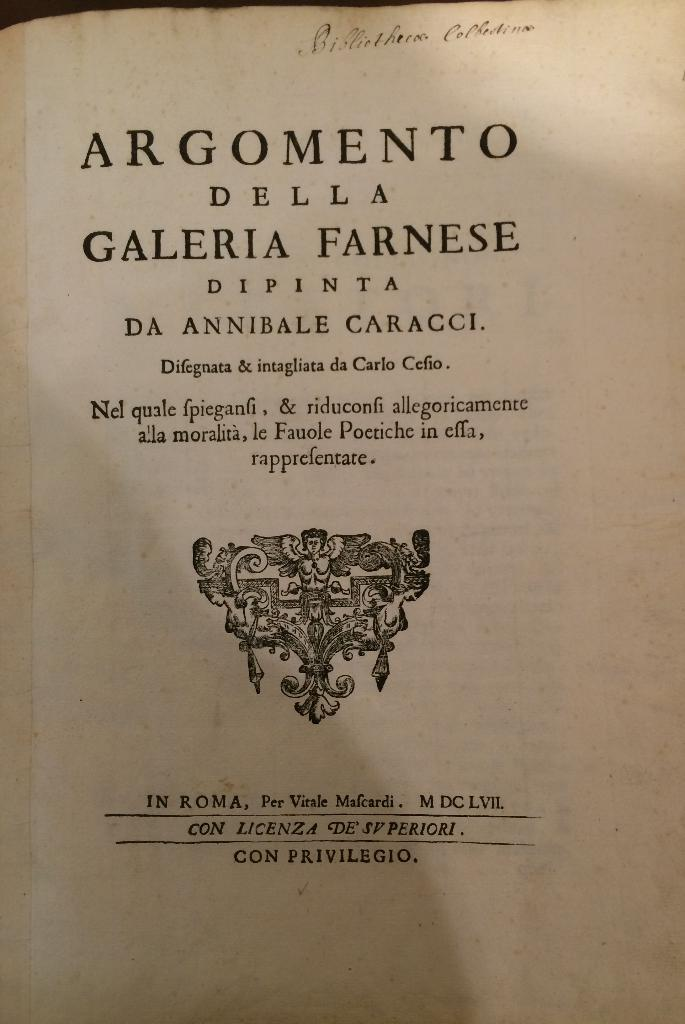Book: (12, 22, 685, 950)
